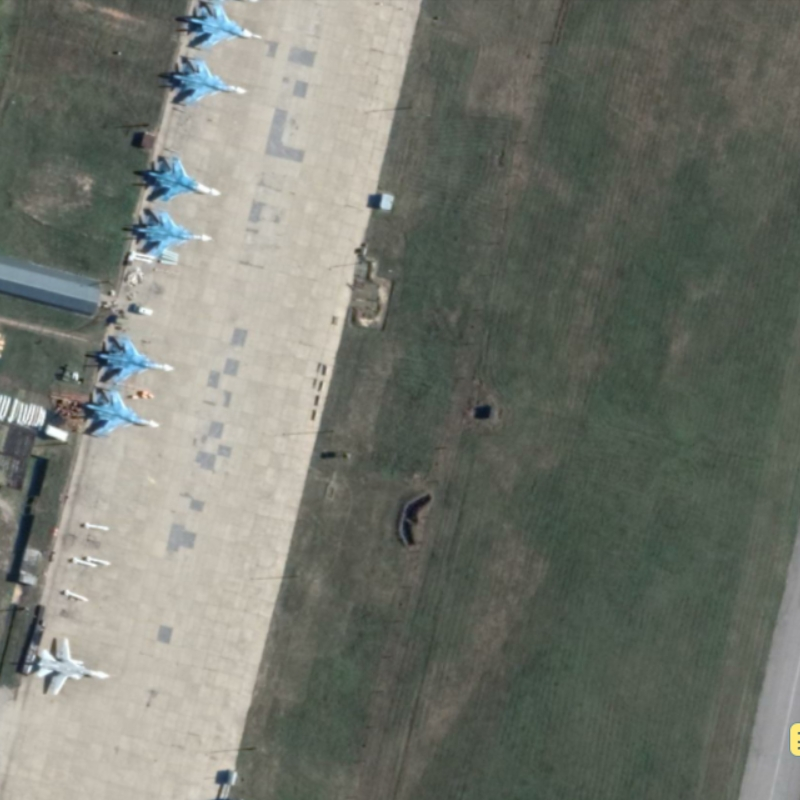A19: (185, 1, 265, 53), (97, 333, 176, 384), (85, 386, 162, 438), (170, 57, 250, 107), (135, 208, 215, 258), (146, 154, 224, 204)
A20: (35, 635, 113, 697)
